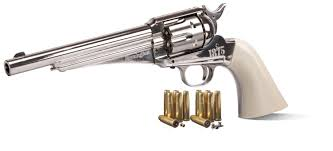gun: (5, 8, 293, 115)
